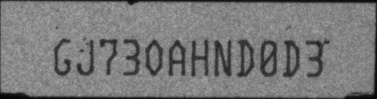0: (259, 39, 277, 77)
3: (304, 39, 324, 78), (122, 38, 142, 76)
7: (99, 37, 117, 75)
A: (169, 37, 186, 77)
D: (237, 38, 256, 78), (283, 37, 301, 77)
G: (53, 37, 73, 77)
H: (189, 38, 209, 76)
J: (76, 38, 94, 76)
N: (213, 39, 233, 77)
O: (145, 40, 164, 75)
